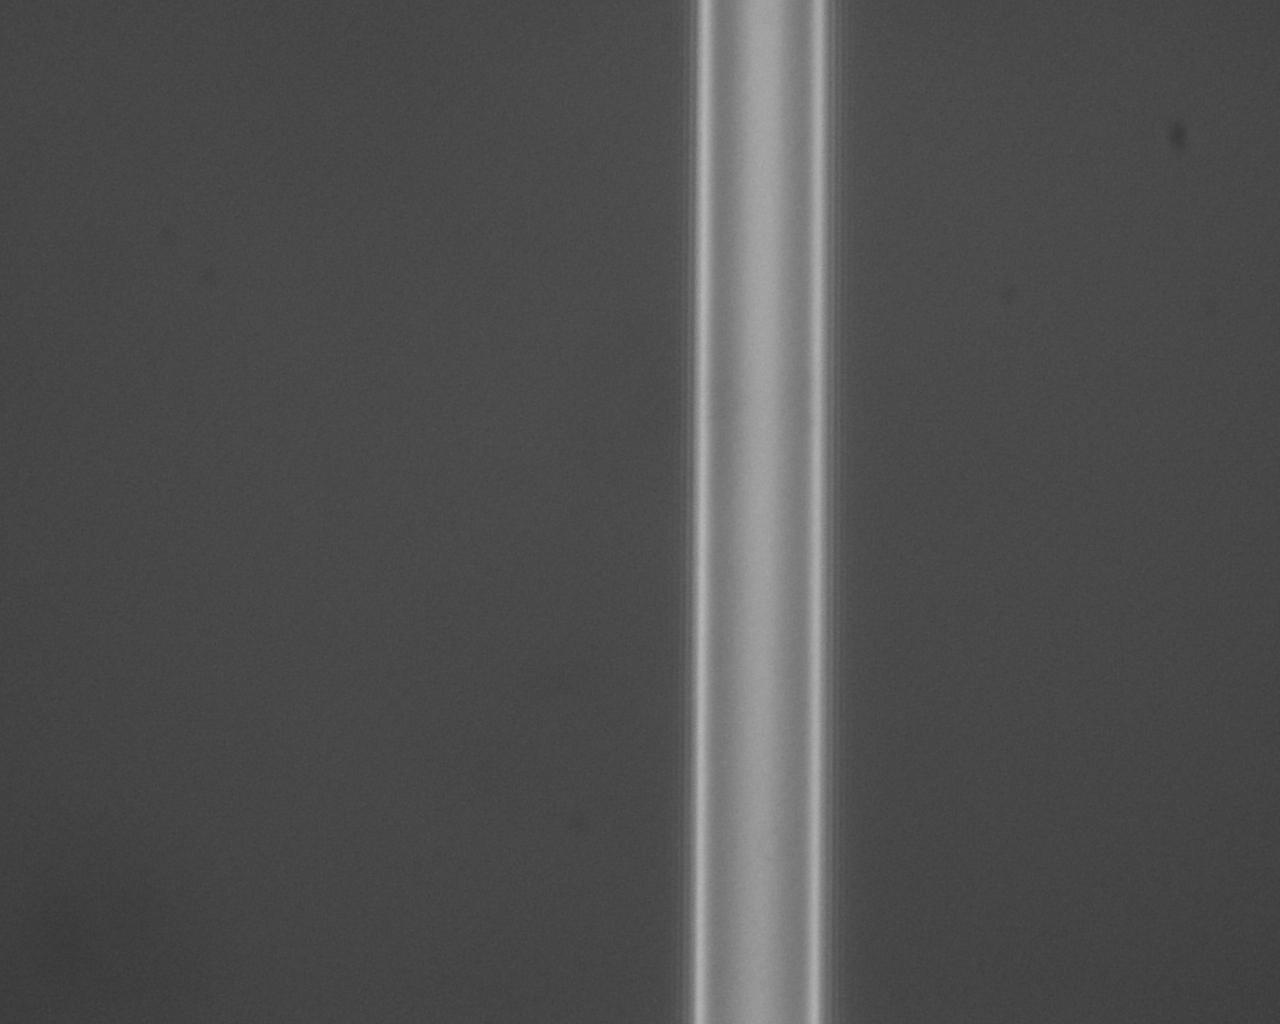fiber: (484, 389, 536, 1024), (793, 609, 1280, 627), (1221, 0, 1238, 389)
